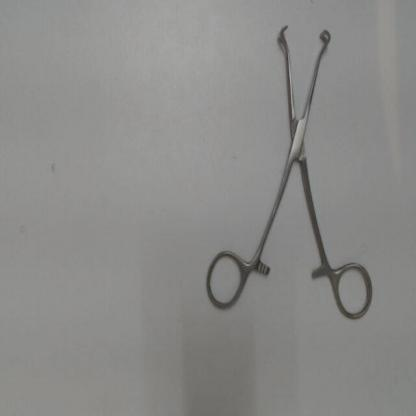Babcock Tissue Forceps: (199, 19, 378, 325)
